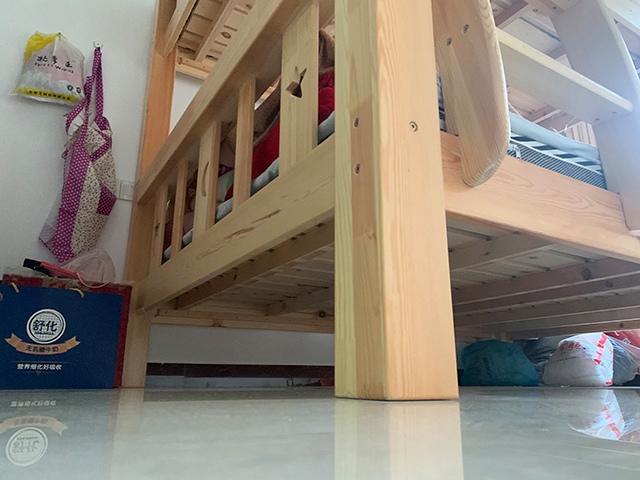bed: (120, 1, 640, 402)
